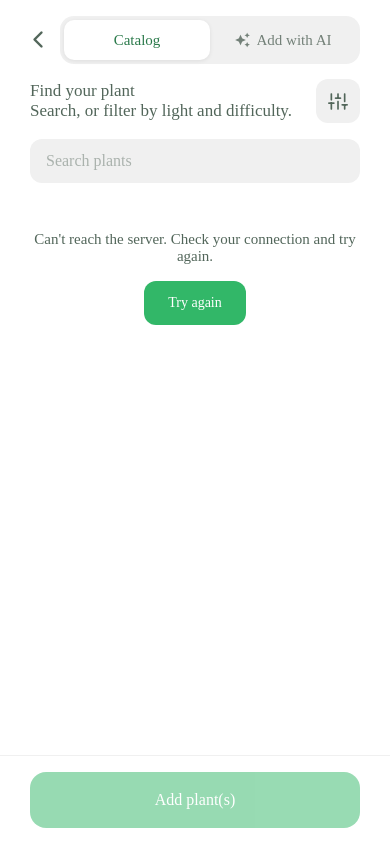
Test: PlantSelect › shows the network message with Retry, and Retry refetches
The width and height of the screenshot is (390, 844).
Check: the text "Can't reach the server. Check your connection and try again." is shown, box [30,231,360,265]
Click the text "Try again".
click(195, 303)  # box [168,295,222,311]
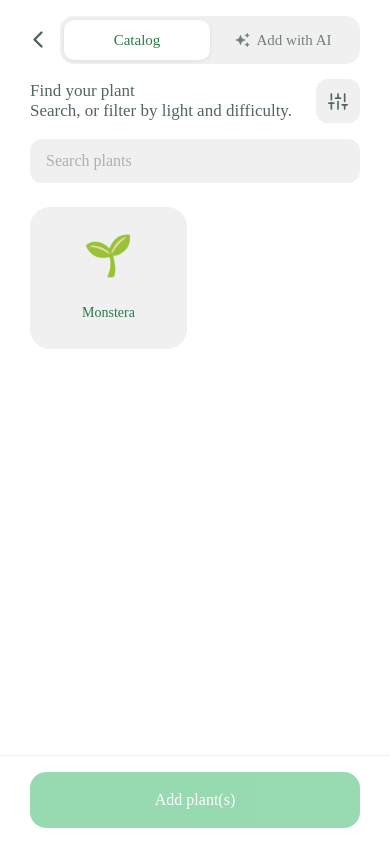
Check: the text "Monstera" is shown, box [82,305,135,320]
